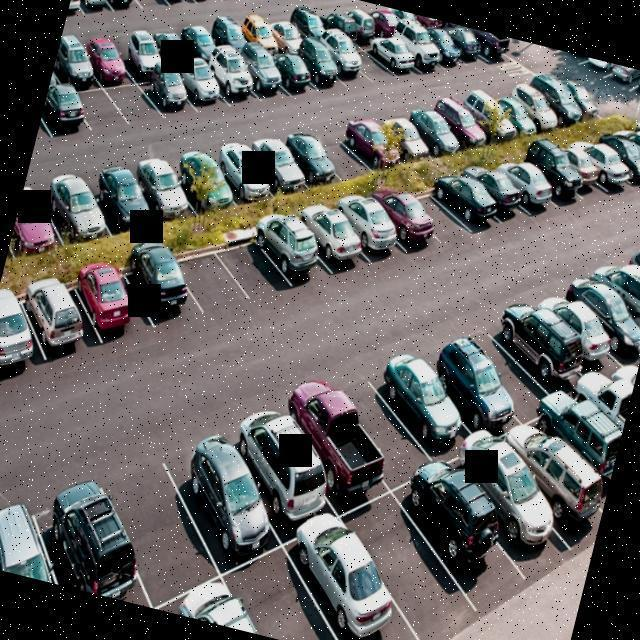car: (262, 364, 405, 518), (275, 496, 426, 640), (358, 326, 492, 474), (446, 424, 575, 576), (160, 426, 294, 572), (27, 472, 166, 605), (396, 456, 524, 595), (402, 315, 530, 451), (210, 398, 340, 531), (492, 408, 612, 546), (518, 271, 633, 389), (482, 282, 596, 398), (530, 382, 630, 510), (319, 175, 416, 284), (64, 246, 166, 348), (34, 148, 130, 256), (106, 229, 206, 332), (242, 193, 342, 296), (547, 261, 640, 369), (280, 182, 378, 284), (354, 172, 454, 268), (82, 142, 175, 244), (0, 493, 95, 589), (16, 263, 104, 364), (419, 153, 514, 244), (564, 360, 636, 480), (510, 128, 599, 225), (5, 167, 84, 275), (484, 145, 572, 238), (118, 144, 207, 235), (238, 116, 320, 205), (573, 236, 640, 344), (421, 78, 505, 164), (454, 150, 536, 238), (204, 125, 284, 214), (450, 72, 530, 158), (166, 138, 246, 222), (274, 116, 356, 196), (169, 574, 274, 636), (336, 100, 416, 180), (396, 90, 474, 172), (565, 125, 640, 210), (522, 56, 599, 135), (36, 64, 108, 148), (541, 128, 616, 206), (169, 36, 239, 118), (580, 113, 640, 208), (498, 68, 572, 142), (369, 98, 442, 172), (198, 37, 268, 114), (139, 44, 207, 123), (541, 66, 616, 136), (480, 76, 550, 148), (363, 17, 432, 89), (0, 282, 49, 380), (312, 21, 378, 92), (385, 9, 452, 78), (232, 35, 296, 106), (288, 30, 352, 101), (118, 13, 178, 86), (80, 20, 141, 90), (50, 19, 108, 92), (266, 36, 327, 102), (201, 0, 262, 62), (600, 109, 640, 201), (416, 17, 474, 78), (174, 8, 231, 70), (254, 0, 311, 60), (143, 12, 199, 72), (230, 1, 284, 59), (32, 72, 68, 158), (461, 27, 525, 74), (309, 0, 366, 50), (437, 22, 492, 72), (0, 191, 28, 288), (332, 0, 387, 49), (281, 0, 333, 49), (356, 1, 408, 45), (577, 56, 629, 92), (370, 4, 422, 39), (46, 31, 73, 98), (603, 62, 640, 97), (89, 0, 144, 23), (558, 50, 606, 75), (402, 12, 444, 36), (141, 0, 196, 18), (539, 46, 583, 66), (68, 0, 116, 18), (64, 0, 95, 27), (171, 0, 221, 14), (202, 0, 250, 13), (628, 69, 640, 109)
free: (88, 447, 236, 611), (336, 484, 476, 638), (325, 351, 447, 492), (446, 308, 566, 432), (231, 534, 360, 640), (158, 222, 254, 334), (203, 210, 296, 312), (393, 170, 483, 264), (304, 105, 386, 189), (101, 52, 172, 132), (68, 66, 137, 147), (339, 23, 403, 90), (120, 0, 174, 19), (225, 0, 272, 13)
